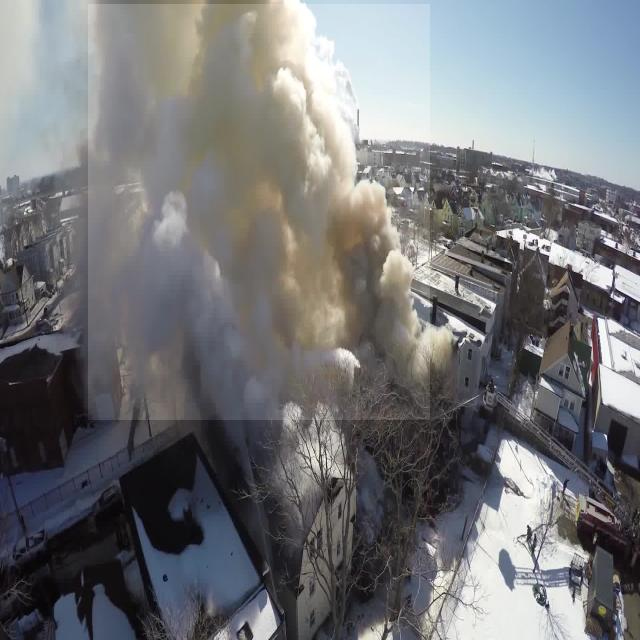Smoke: (88, 4, 430, 420)
